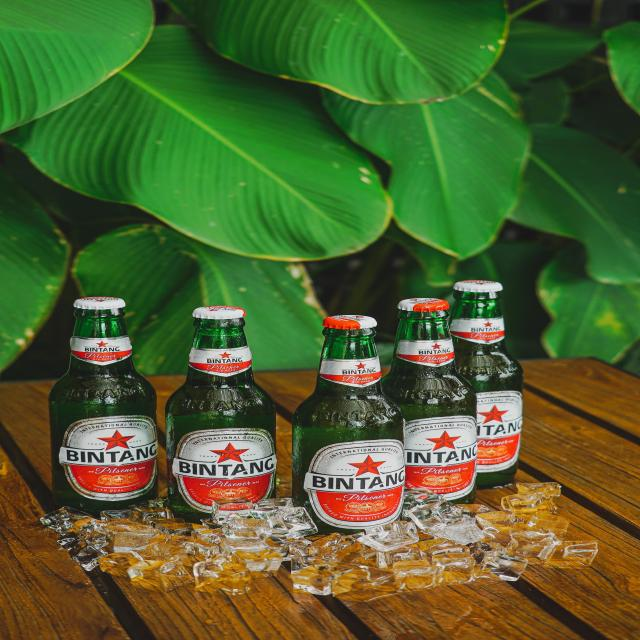Bottle: (293, 316, 404, 533), (166, 306, 276, 522), (50, 298, 157, 515), (383, 299, 477, 503), (451, 281, 523, 487)
